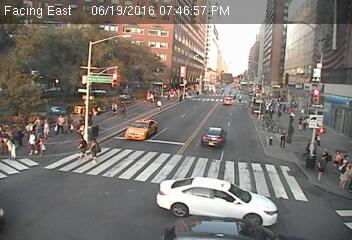neg: (253, 77, 267, 96), (276, 132, 289, 149), (267, 136, 276, 149)
pos: (312, 154, 334, 183), (20, 129, 40, 157), (337, 162, 351, 193), (84, 137, 102, 161), (72, 135, 90, 159), (317, 149, 333, 171), (32, 137, 48, 158), (6, 138, 22, 159), (303, 136, 319, 156), (52, 112, 68, 132), (29, 117, 45, 137), (39, 117, 54, 138), (115, 98, 129, 117), (330, 148, 344, 166), (64, 112, 77, 130), (75, 122, 88, 140), (340, 154, 351, 172), (296, 116, 307, 131), (153, 98, 164, 112), (301, 116, 311, 130), (108, 100, 118, 114), (274, 109, 284, 123), (144, 90, 153, 102), (148, 90, 156, 101), (237, 94, 245, 104)
